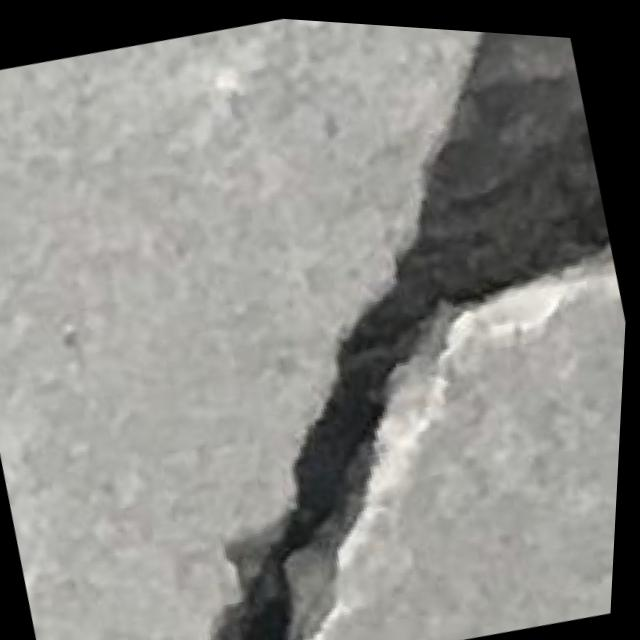Crack: (32, 3, 640, 640)
